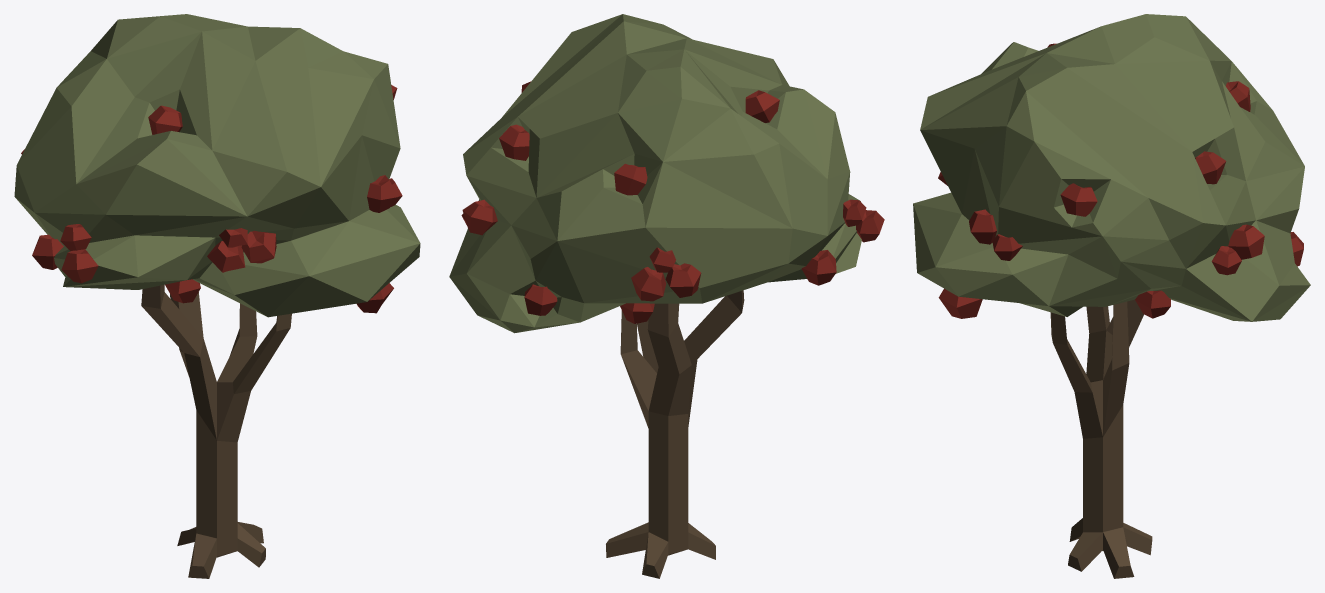
Rendered from apple_tree.glb.
3 renders of one model, left to right at view 1: azimuth 30°, elevation 25°; view 2: azimuth 150°, elevation 25°; view 3: azimuth 270°, elevation 25°, orthographic. The views are drawn at different scales.
Parts seen in each view (by area): view 1: SM_Env_Tree_Apple_Grown_01; view 2: SM_Env_Tree_Apple_Grown_01; view 3: SM_Env_Tree_Apple_Grown_01.
Boxes of the visible parts, left/top/right/bottom form: SM_Env_Tree_Apple_Grown_01: left=14, top=14, right=420, bottom=578; SM_Env_Tree_Apple_Grown_01: left=449, top=14, right=884, bottom=578; SM_Env_Tree_Apple_Grown_01: left=913, top=14, right=1310, bottom=578.
Size of the model in its own units: 3.04 by 4.3 by 2.96.
Materials: 1 (1 with a texture image).
